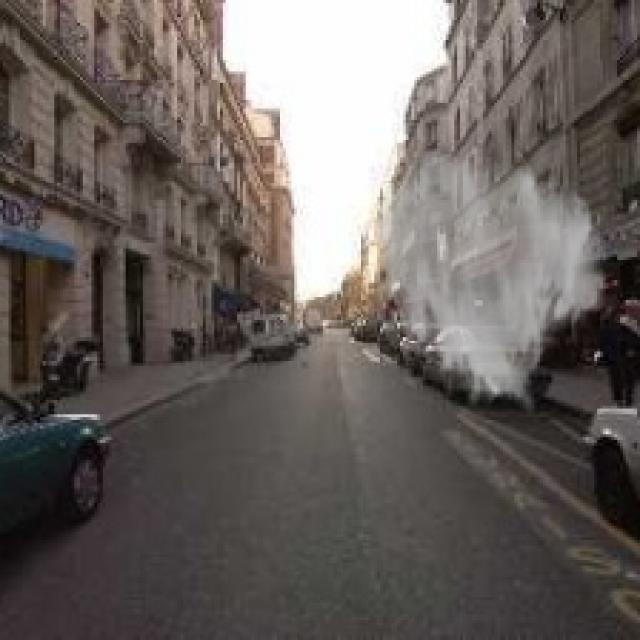Smoke: (374, 142, 612, 418)
